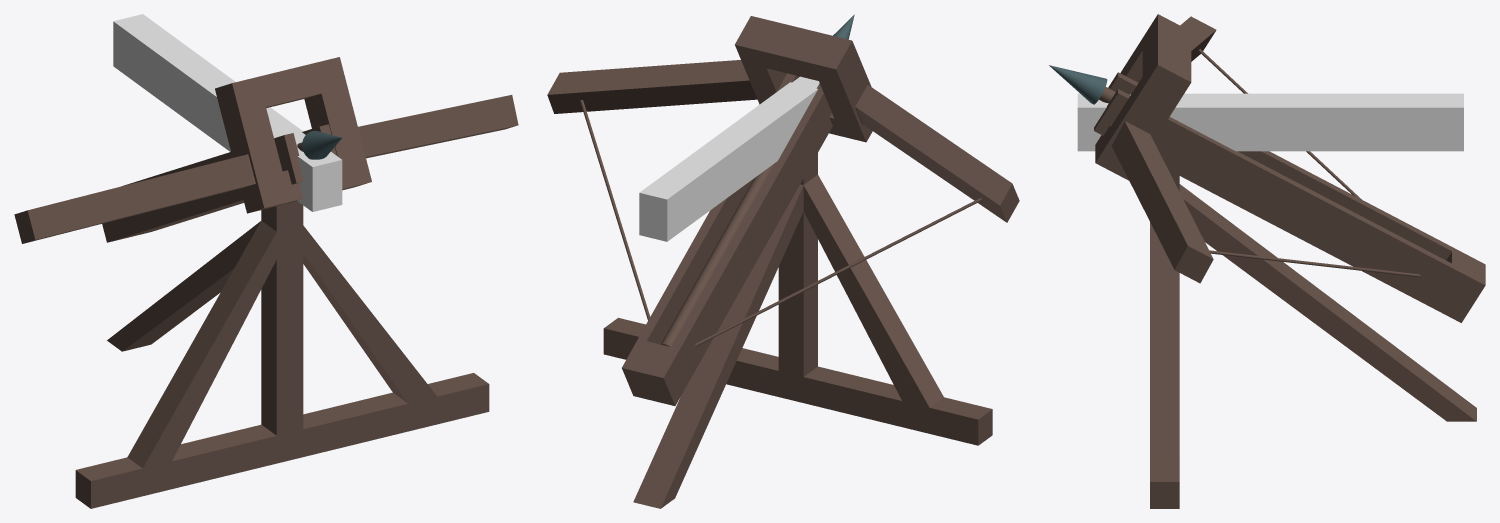
The model's file is balista0_0.fbx.
3 views of the same model, side by side, from view 1: azimuth 30°, elevation 25°; view 2: azimuth 150°, elevation 25°; view 3: azimuth 270°, elevation 25° (orthographic). The views are drawn at different scales.
Parts seen in each view (by area): view 1: Cube.002, Cube.001, Cube.006, Cone; view 2: Cube.001, Cube.002, Cube.006, Cone; view 3: Cube.001, Cube.002, Cube.006, Cone.
Boxes of the visible parts, bbox=[...] form: Cube.002: bbox=[75, 201, 489, 508]; Cube.001: bbox=[14, 57, 518, 243]; Cube.006: bbox=[113, 14, 342, 211]; Cone: bbox=[297, 131, 341, 159]; Cube.001: bbox=[547, 16, 1019, 405]; Cube.002: bbox=[603, 153, 992, 508]; Cube.006: bbox=[639, 76, 819, 241]; Cone: bbox=[661, 14, 854, 346]; Cube.001: bbox=[1094, 14, 1485, 322]; Cube.002: bbox=[1150, 170, 1476, 508]; Cube.006: bbox=[1077, 93, 1463, 151]; Cone: bbox=[1049, 65, 1115, 104].
Size of the model in its own units: 364 by 279 by 294.
